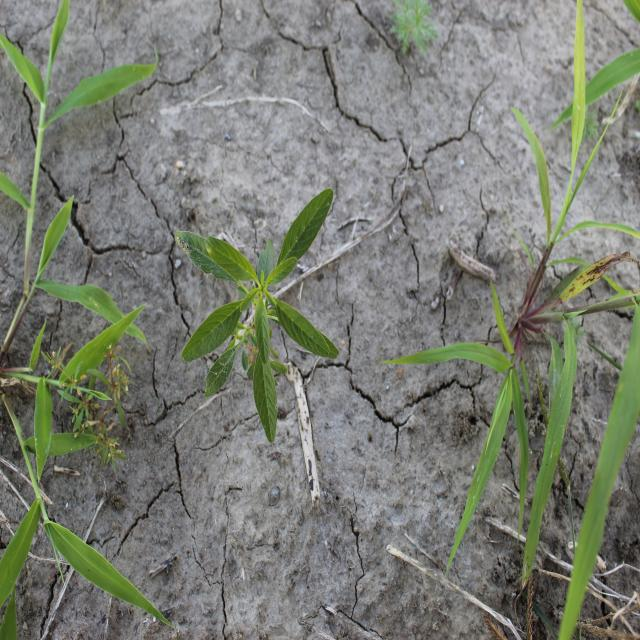Carpetweed: (38, 341, 136, 483)
Ragweed: (386, 1, 442, 58)
Waterhemp: (173, 187, 341, 444)
